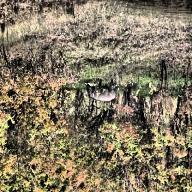boar: (80, 70, 139, 112)
